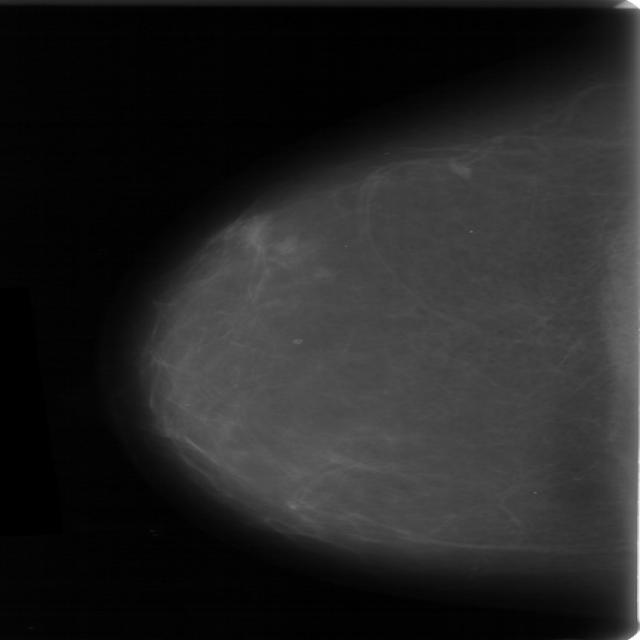tumour: (273, 232, 295, 253)
